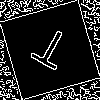T: (25, 25, 74, 79)
